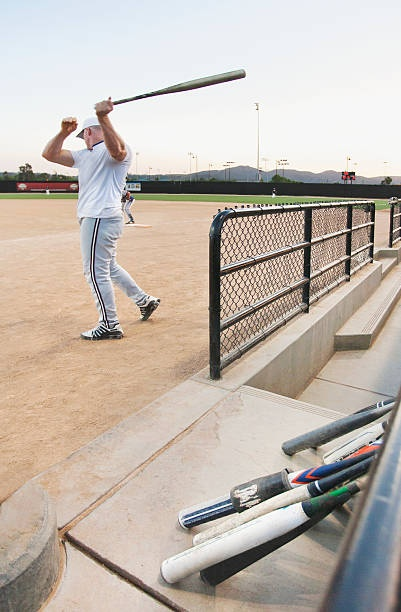bita: (97, 71, 248, 109)
